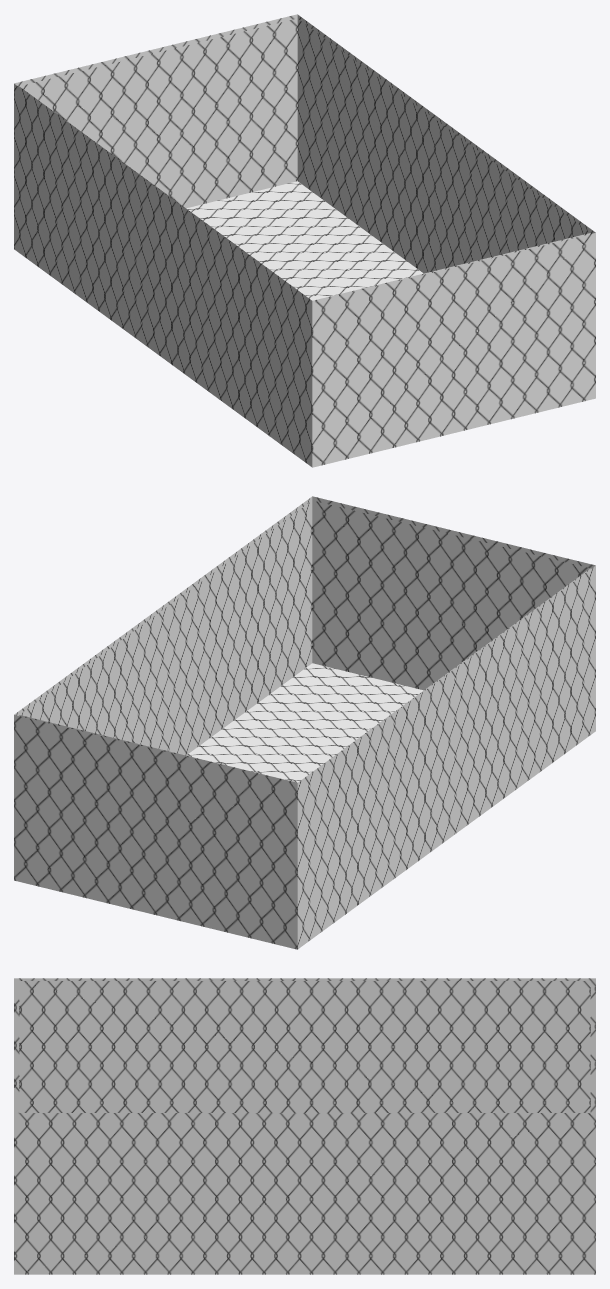
The model's file is trolley.dae.
3 views of the same model, one above another, from view 1: azimuth 30°, elevation 25°; view 2: azimuth 150°, elevation 25°; view 3: azimuth 270°, elevation 25° (orthographic). The views are drawn at different scales.
Parts seen in each view (by area): view 1: Cube, Cube.001; view 2: Cube, Cube.001; view 3: Cube, Cube.001.
Part boxes in pixels (x1,y1,x2,y2): Cube: (14, 14, 595, 467); Cube.001: (19, 18, 590, 301); Cube: (14, 496, 595, 949); Cube.001: (19, 500, 590, 783); Cube: (14, 978, 595, 1274); Cube.001: (19, 981, 590, 1112).
Bounding box in the file's own units: 0.68 × 1.24 × 0.38.
Materials: 1 (1 with a texture image).
